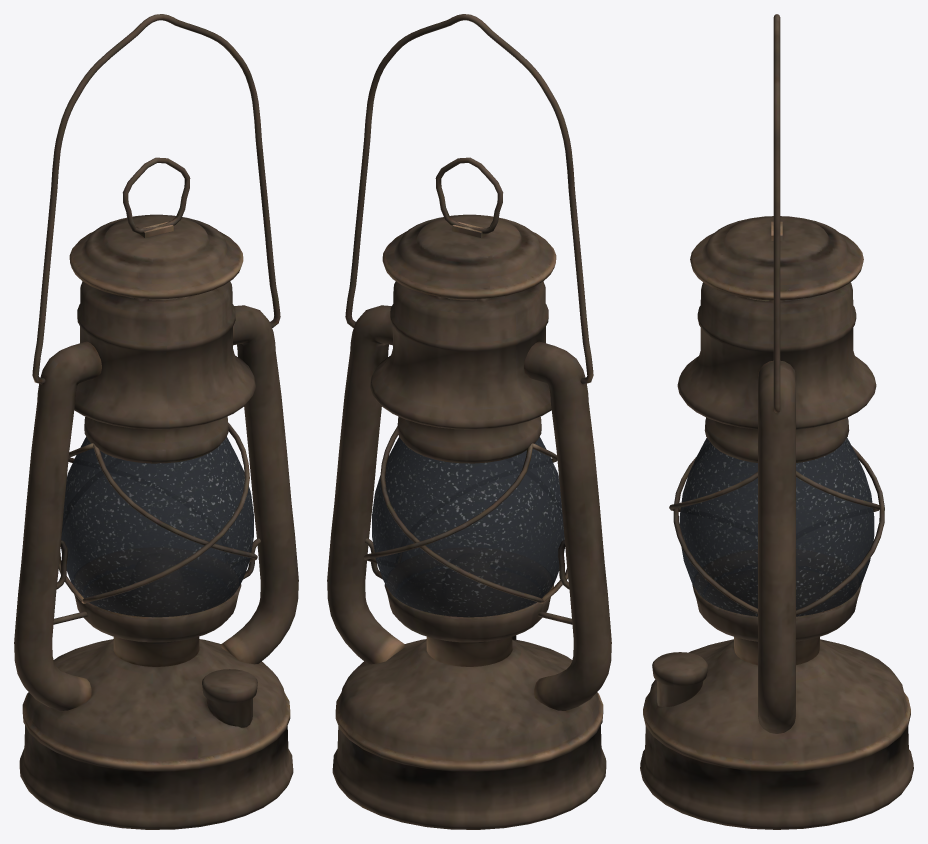
Rendered from hurricane-lantern_final.glb.
3 views of the same model, side by side, from view 1: azimuth 30°, elevation 25°; view 2: azimuth 150°, elevation 25°; view 3: azimuth 270°, elevation 25° (orthographic).
Visible parts, largest first — view 1: SM_Lantern_Fount, SM_Lantern_Tubes, SM_Lantern_Globe, SM_Lantern_Hood, SM_Lantern_Burner, SM_Lantern_Cap, SM_Lantern_Bail, SM_Lantern_Guard, SM_Lantern_FillerCap, SM_Lantern_Handle, SM_Lantern_Lever; view 2: SM_Lantern_Fount, SM_Lantern_Tubes, SM_Lantern_Globe, SM_Lantern_Hood, SM_Lantern_Burner, SM_Lantern_Cap, SM_Lantern_Bail, SM_Lantern_Guard, SM_Lantern_Handle, SM_Lantern_Lever; view 3: SM_Lantern_Fount, SM_Lantern_Hood, SM_Lantern_Globe, SM_Lantern_Tubes, SM_Lantern_Cap, SM_Lantern_Burner, SM_Lantern_Guard, SM_Lantern_Bail, SM_Lantern_FillerCap.
Boxes of the visible parts, x1,y1,x2,y2 form: SM_Lantern_Fount: [19, 639, 293, 829]; SM_Lantern_Tubes: [14, 305, 298, 710]; SM_Lantern_Globe: [61, 437, 253, 617]; SM_Lantern_Hood: [74, 281, 255, 463]; SM_Lantern_Burner: [74, 548, 241, 666]; SM_Lantern_Cap: [69, 214, 243, 299]; SM_Lantern_Bail: [32, 14, 280, 384]; SM_Lantern_Guard: [58, 422, 257, 603]; SM_Lantern_FillerCap: [202, 669, 257, 727]; SM_Lantern_Handle: [122, 157, 190, 237]; SM_Lantern_Lever: [53, 538, 260, 624]; SM_Lantern_Fount: [332, 639, 606, 829]; SM_Lantern_Tubes: [327, 305, 611, 710]; SM_Lantern_Globe: [372, 437, 564, 617]; SM_Lantern_Hood: [370, 281, 551, 463]; SM_Lantern_Burner: [384, 548, 553, 666]; SM_Lantern_Cap: [382, 214, 556, 299]; SM_Lantern_Bail: [345, 14, 593, 384]; SM_Lantern_Guard: [364, 426, 568, 603]; SM_Lantern_Handle: [435, 157, 503, 237]; SM_Lantern_Lever: [365, 538, 572, 624]; SM_Lantern_Fount: [640, 639, 913, 829]; SM_Lantern_Hood: [677, 282, 876, 462]; SM_Lantern_Globe: [679, 438, 874, 616]; SM_Lantern_Tubes: [758, 360, 795, 733]; SM_Lantern_Cap: [690, 216, 863, 300]; SM_Lantern_Burner: [692, 549, 861, 664]; SM_Lantern_Guard: [669, 445, 884, 615]; SM_Lantern_Bail: [773, 14, 780, 412]; SM_Lantern_FillerCap: [652, 652, 707, 707].
Bounding box in the file's own units: 0.1464 × 0.38 × 0.1244.
2 materials, 2 textured.
